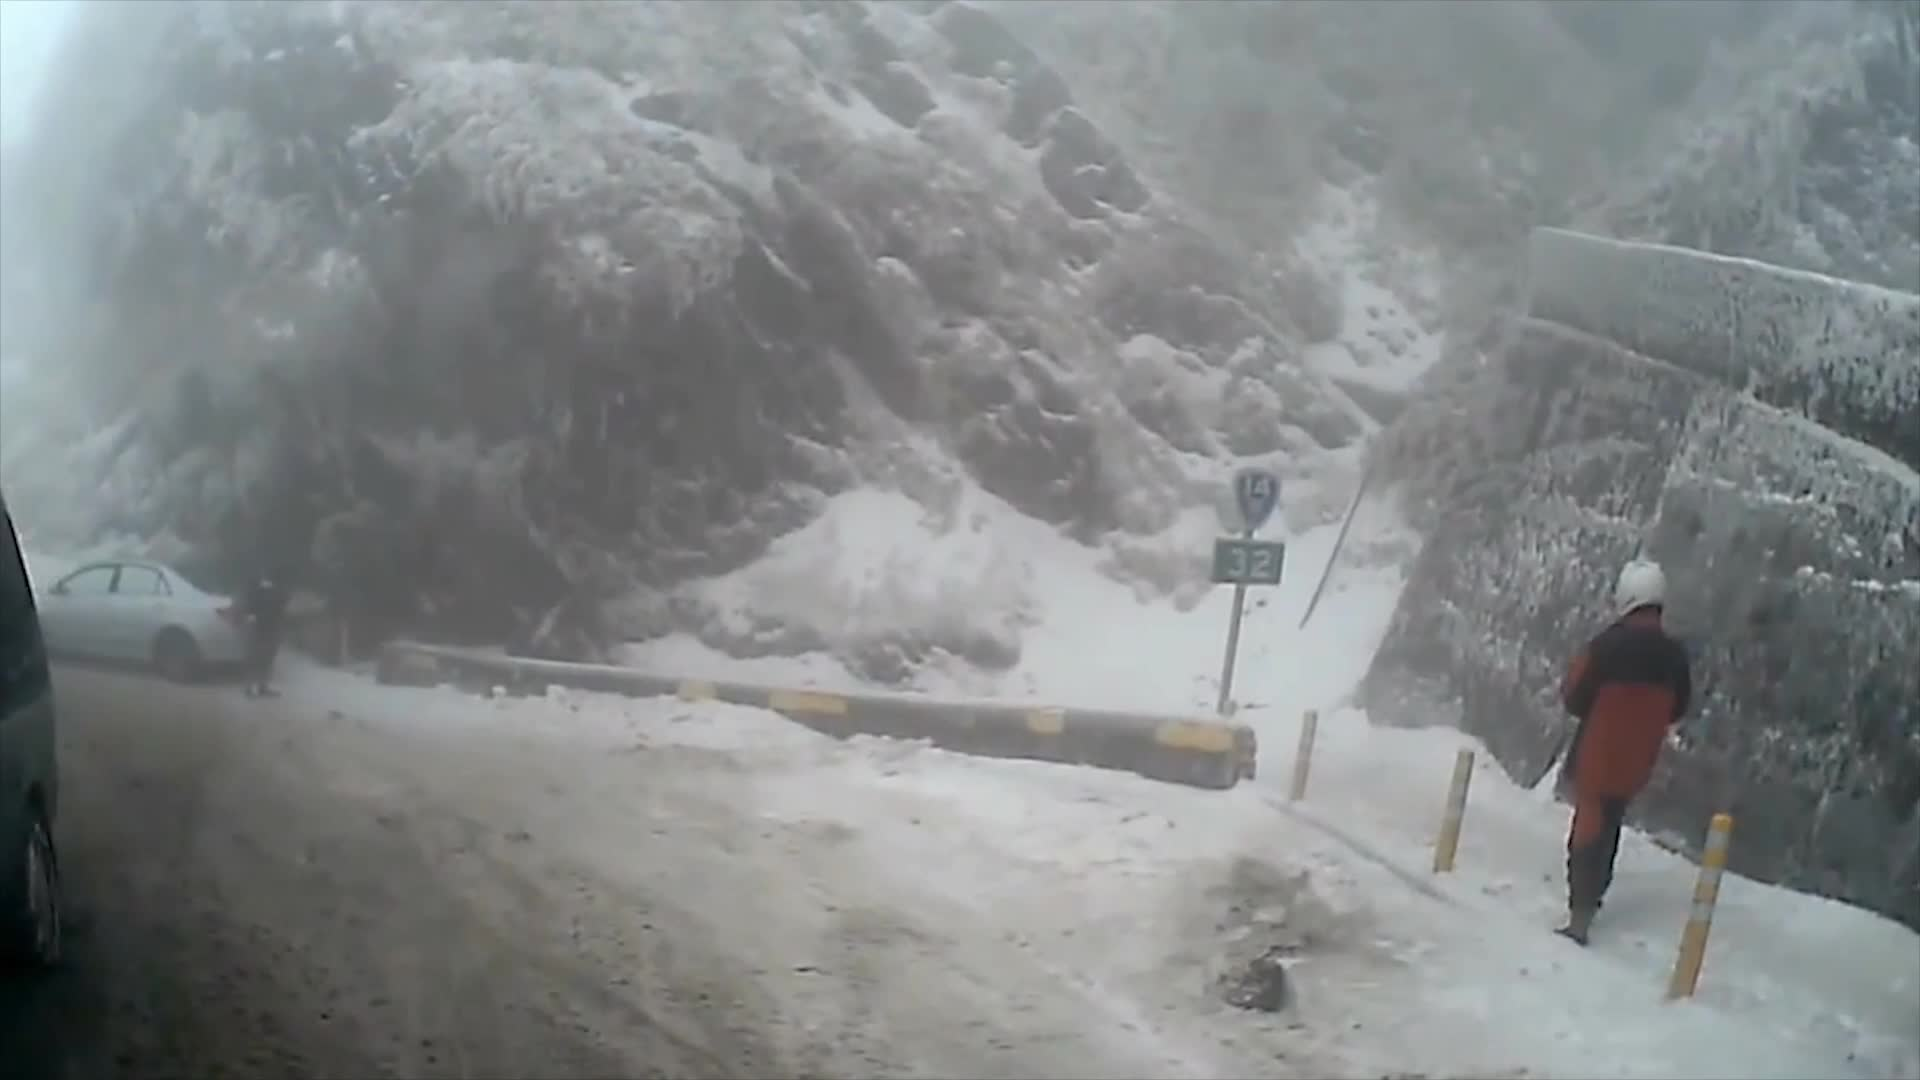pedestrian: (1556, 558, 1693, 946), (231, 565, 287, 696)
vehicle: (0, 497, 65, 1028), (6, 558, 260, 683)
